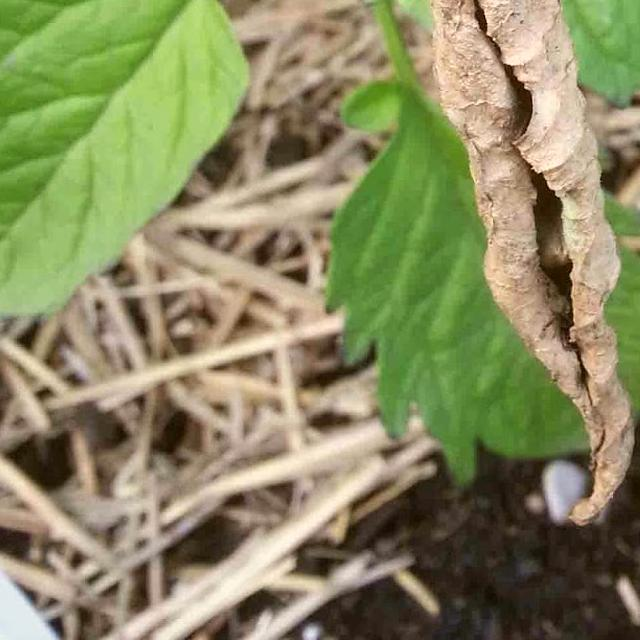Tomato leaf late blight: (251, 0, 640, 518)
